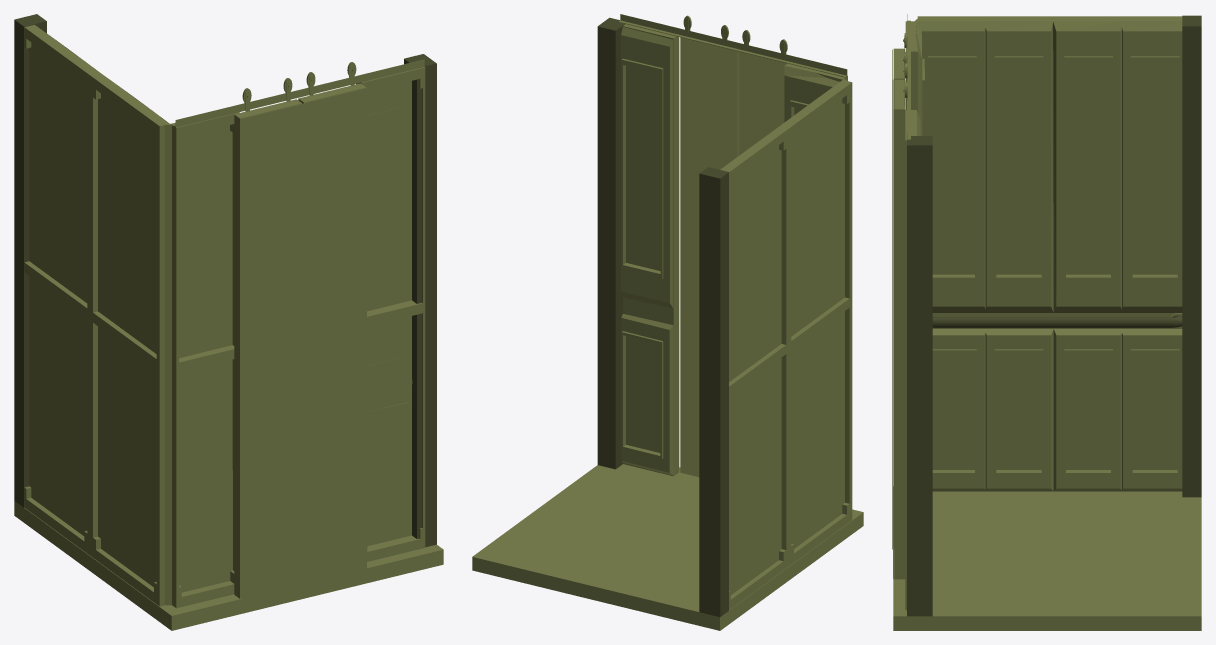
File: Elevator.glb
3 views of the same model, side by side, from view 1: azimuth 30°, elevation 25°; view 2: azimuth 150°, elevation 25°; view 3: azimuth 270°, elevation 25° (orthographic). The views are drawn at different scales.
Parts seen in each view (by area): view 1: Cube.001; view 2: Cube.001; view 3: Cube.001.
Part boxes in pixels (x1,y1,x2,y2): Cube.001: [14, 14, 443, 630]; Cube.001: [472, 14, 863, 630]; Cube.001: [892, 14, 1201, 630].
Size of the model in its own units: 2.99 by 5.45 by 3.01.
